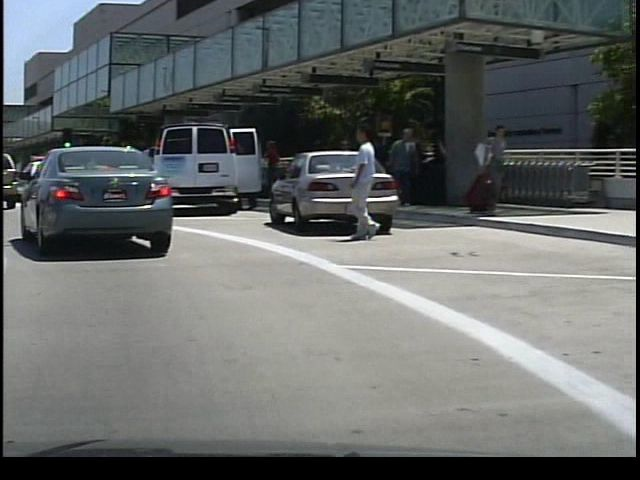person: (338, 120, 381, 243), (468, 119, 504, 215), (393, 124, 416, 205), (258, 135, 282, 202)
